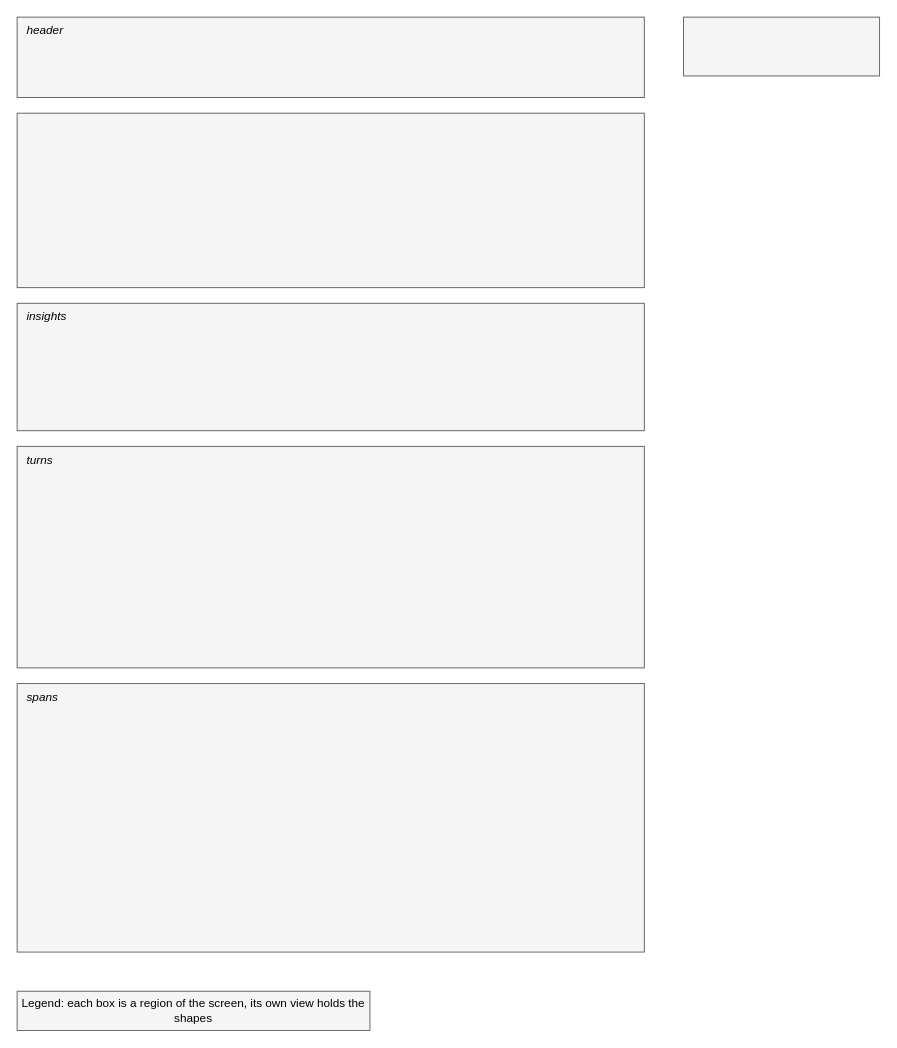
Image size: 897x1048. Some labels were removed from this diagram. Each missing label, with the box of its shape:
filters: (16, 112, 644, 288)
Other: (683, 16, 880, 76)
